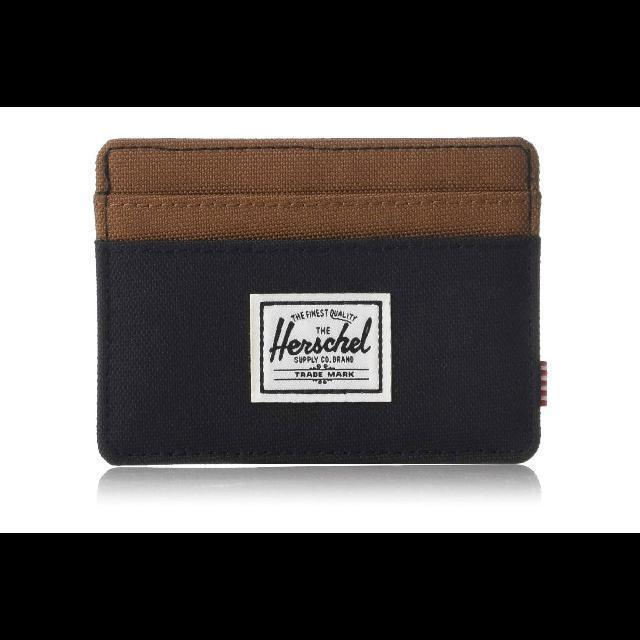wallet: (86, 132, 550, 466)
